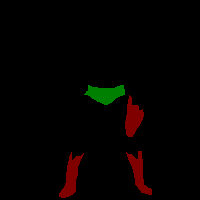abbigliamento: (125, 150, 152, 195), (59, 151, 84, 198), (125, 94, 144, 137)
mutande: (84, 84, 125, 105)
